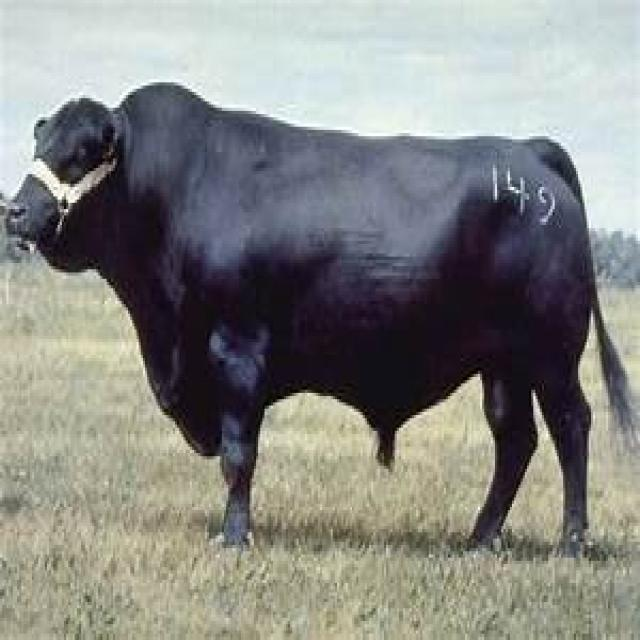cow: (4, 82, 634, 558)
